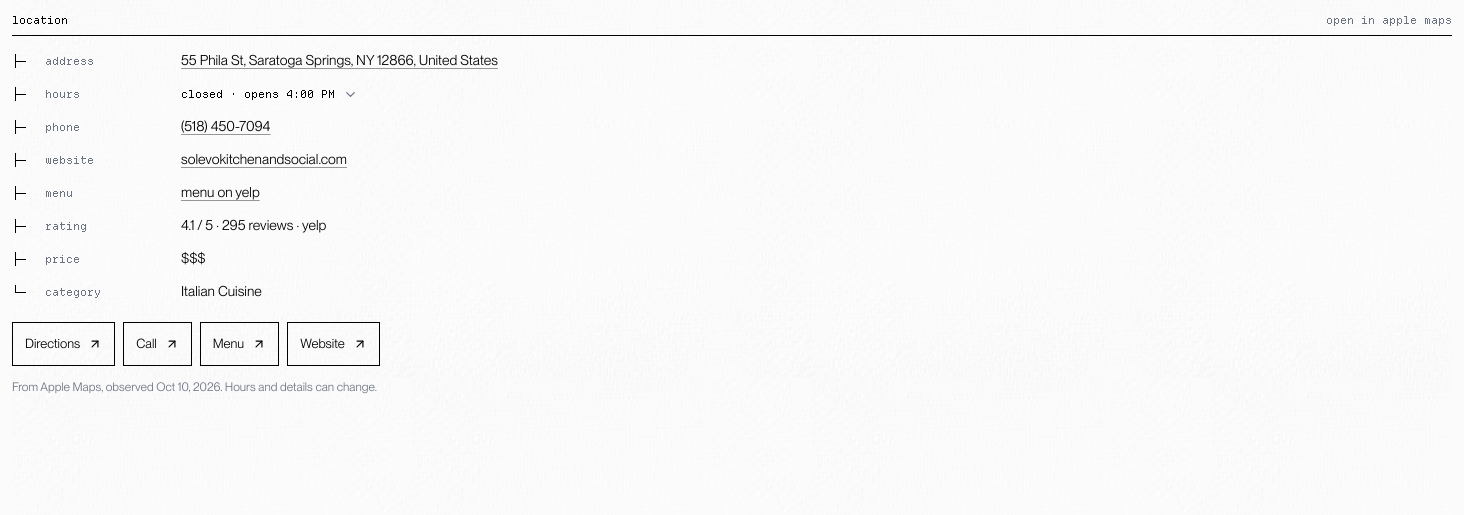
Test: LocationDetailsSection › opens the week on the hours row
Click the button "closed · opens 4:00 PM": (270, 95) x1=181 y1=87 x2=358 y2=103
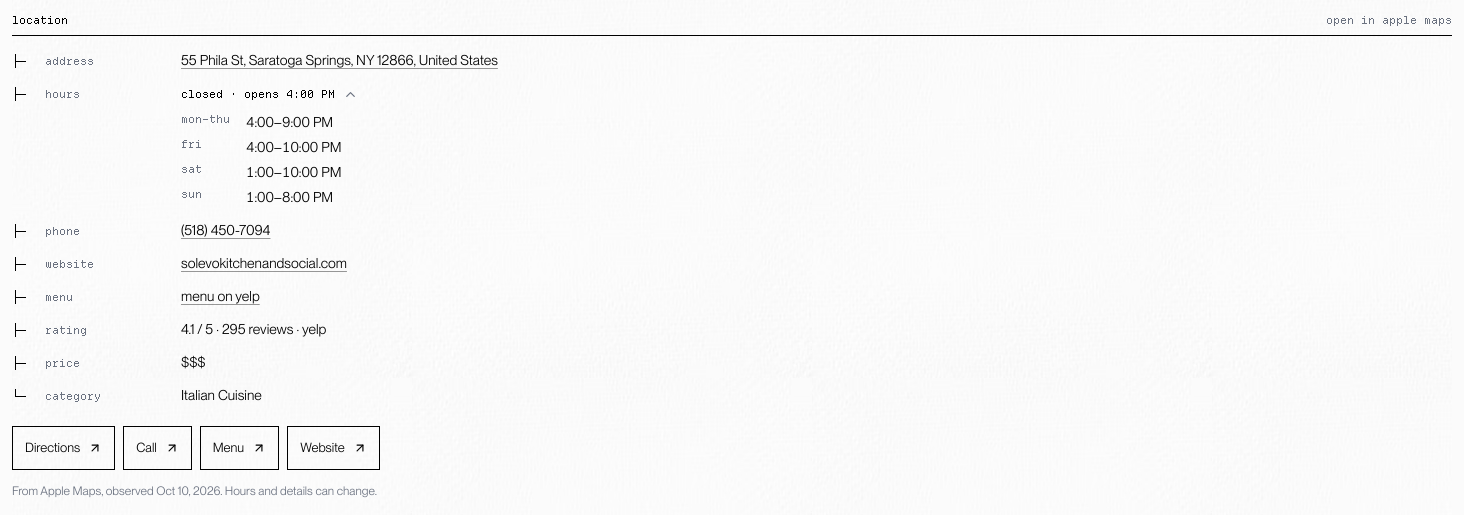
Now the button "closed · opens 4:00 PM" is expanded, box x1=181 y1=87 x2=358 y2=103
Now the text "Mon–Thu" is shown, box x1=181 y1=112 x2=230 y2=133
Now the text "4:00–9:00 PM" is shown, box x1=246 y1=114 x2=333 y2=130
